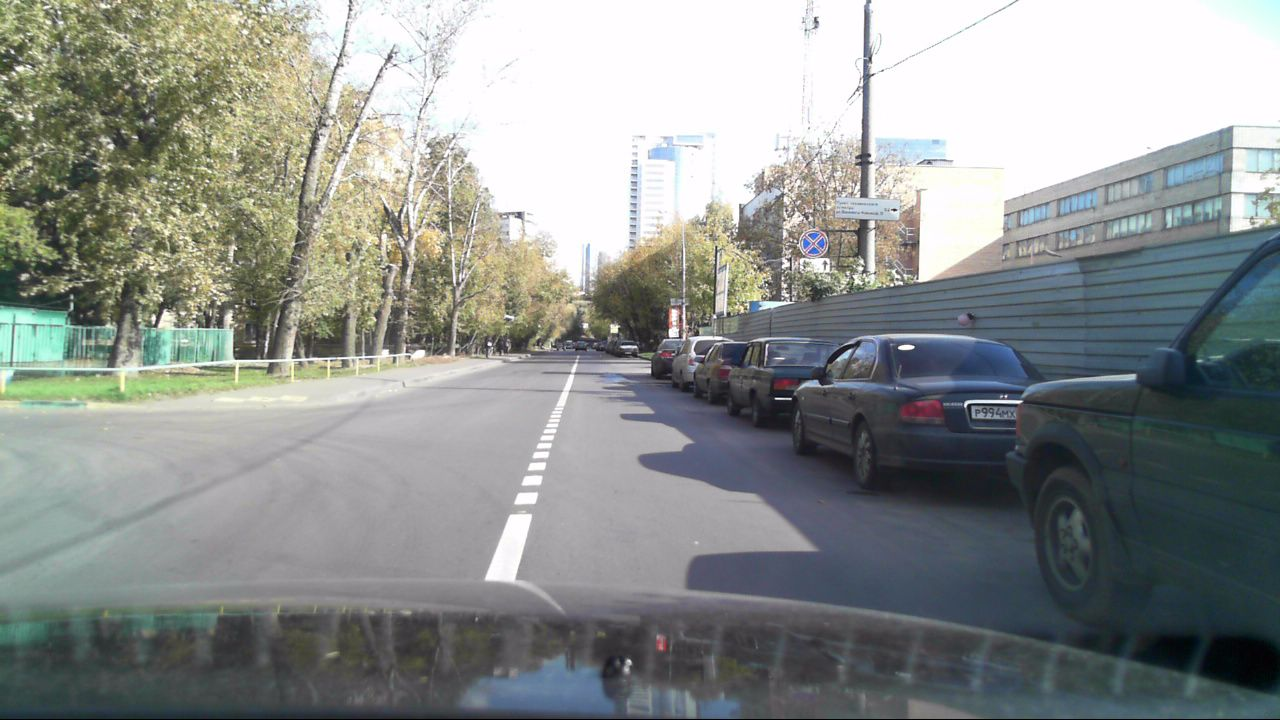No Parking: (798, 228, 829, 258)
